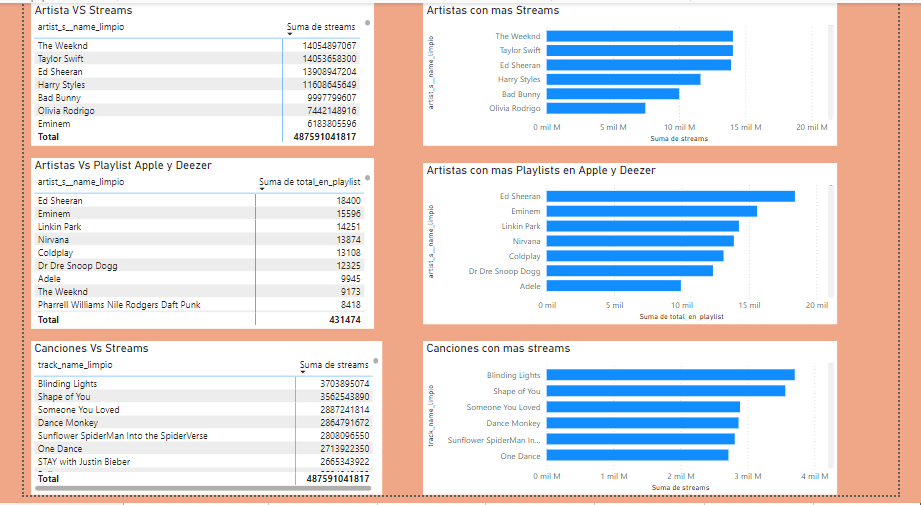

The dashboard page shown, as its layout file describes it:
{"tool":"powerbi","page":{"name":"Dashboard 4","canvas":[1280,720],"ordinal":15},"visuals":[{"type":"pivotTable","title":"Artista VS Streams","fields":{"Rows":["view_complete_table.artist_s__name_limpio"],"Values":["view_complete_table.streams"]},"box":[10.2,0,502,209.3],"z":0},{"type":"barChart","title":"Artistas con mas Streams","fields":{"Category":["view_complete_table.artist_s__name_limpio"],"Y":["view_complete_table.streams"]},"box":[583.9,0,605.9,209.3],"z":1000},{"type":"pivotTable","title":"Artistas Vs Playlist Apple y Deezer","fields":{"Rows":["view_complete_table.artist_s__name_limpio"],"Values":["view_complete_table.total_en_playlist"]},"box":[10.2,226.8,502,250.2],"z":2000},{"type":"barChart","title":"Artistas con mas Playlists en Apple y Deezer","fields":{"Category":["view_complete_table.artist_s__name_limpio"],"Y":["view_complete_table.total_en_playlist"]},"box":[583.9,234.1,605.9,235.6],"z":3000},{"type":"pivotTable","title":"Canciones Vs Streams","fields":{"Rows":["view_complete_table.track_name_limpio"],"Values":["view_complete_table.streams"]},"box":[10.2,494.6,513.7,225.4],"z":4000},{"type":"barChart","title":"Canciones con mas streams","fields":{"Category":["view_complete_table.track_name_limpio"],"Y":["view_complete_table.streams"]},"box":[584,495,606,225],"z":5000}]}

Visuals, with their boxes in screenshot pixels (x1, y1, x2, y2), scaled from the page's 1280x720 canvas onto the 921x505 screenshot:
"Artista VS Streams" pivotTable: 7,0,369,147
"Artistas con mas Streams" barChart: 420,0,856,147
"Artistas Vs Playlist Apple y Deezer" pivotTable: 7,159,369,335
"Artistas con mas Playlists en Apple y Deezer" barChart: 420,164,856,329
"Canciones Vs Streams" pivotTable: 7,347,377,504
"Canciones con mas streams" barChart: 420,347,856,504
